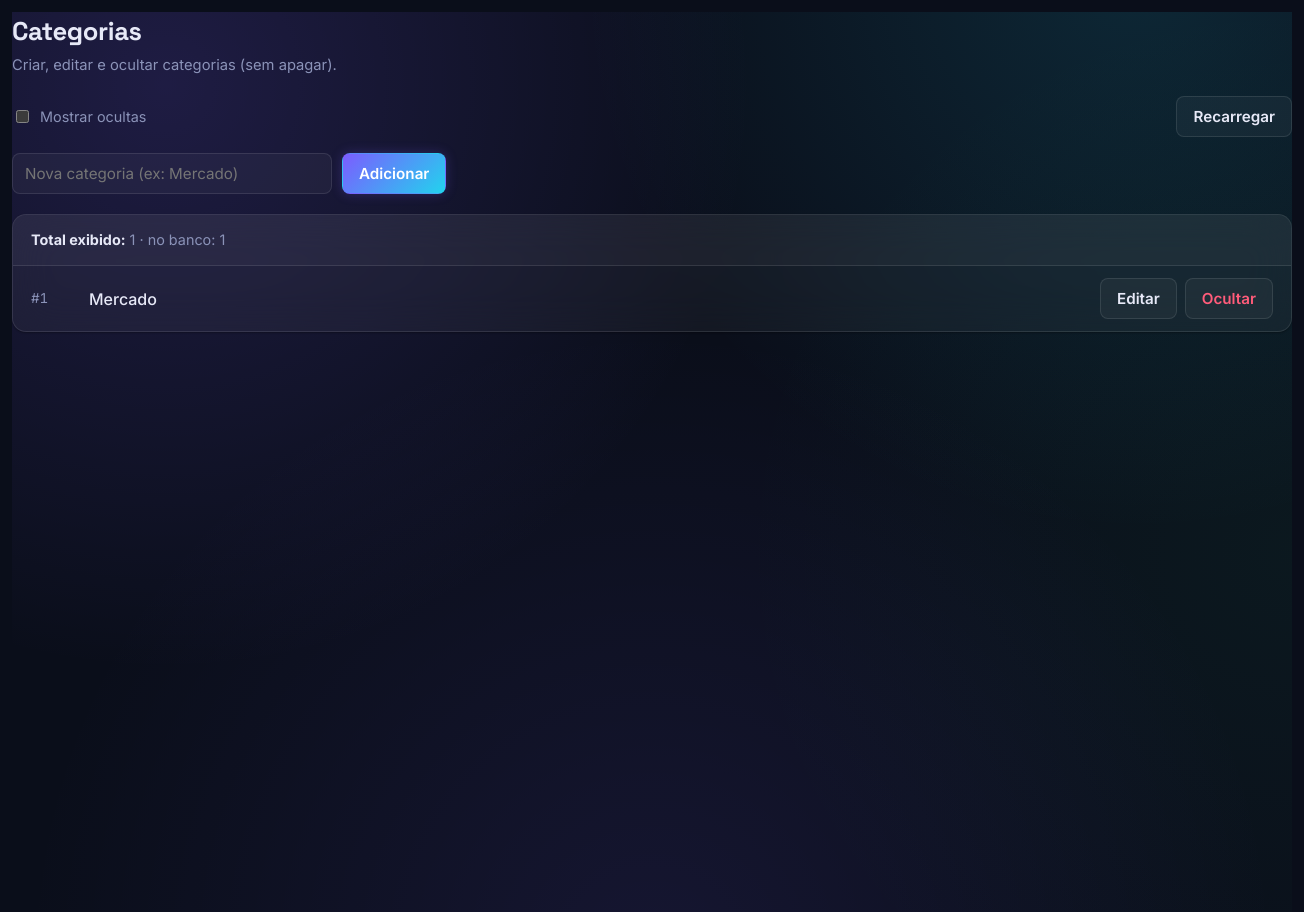
Categories › edita o nome de uma categoria
Expected: the text "Mercado" is shown, [89,289,157,309]
Click the button "Editar": (1138, 299) [1100,278,1177,319]
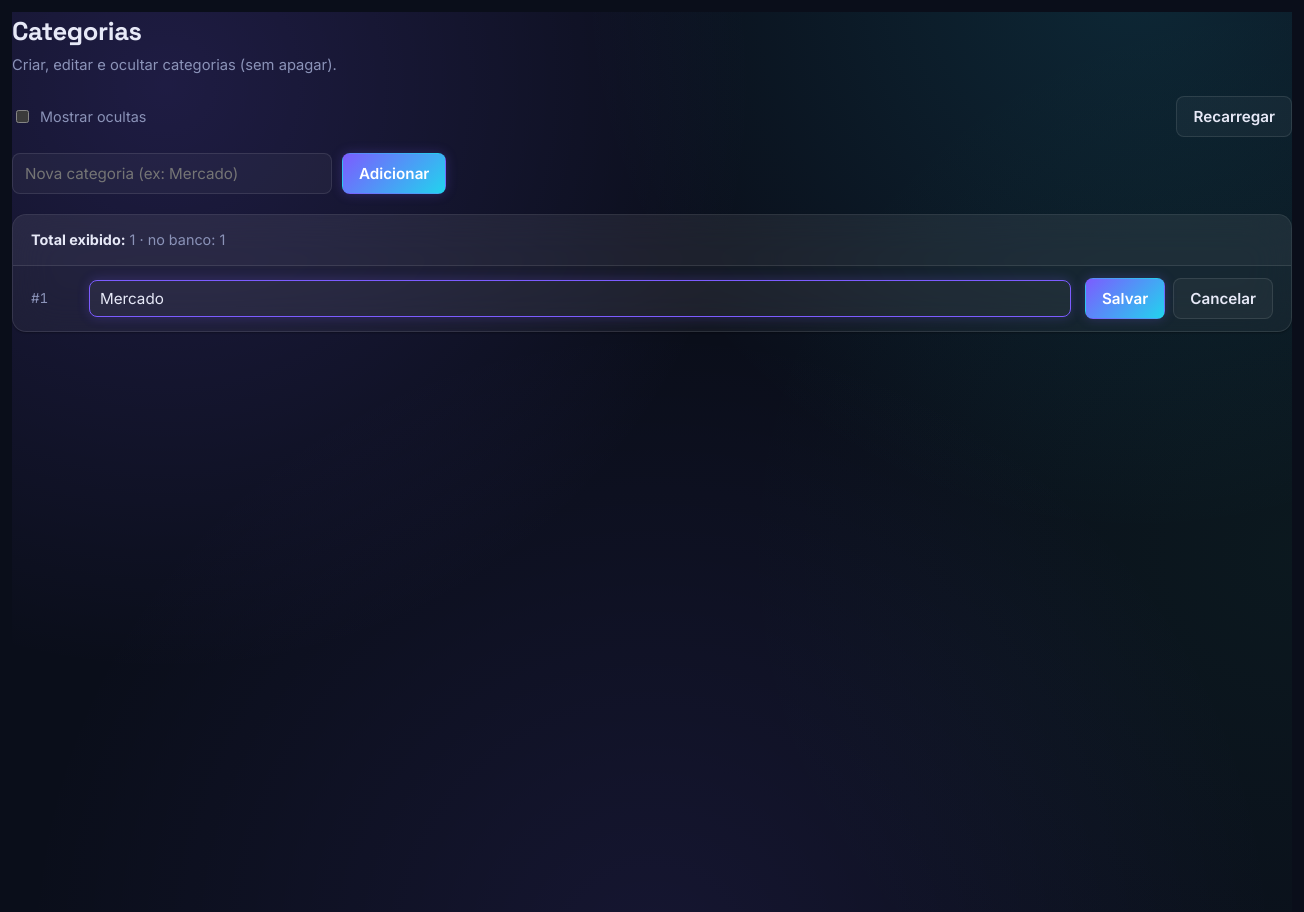
Replace the text in the field showing "Mercado" with "Mercado e Feira": (580, 299) [89,280,1071,317]
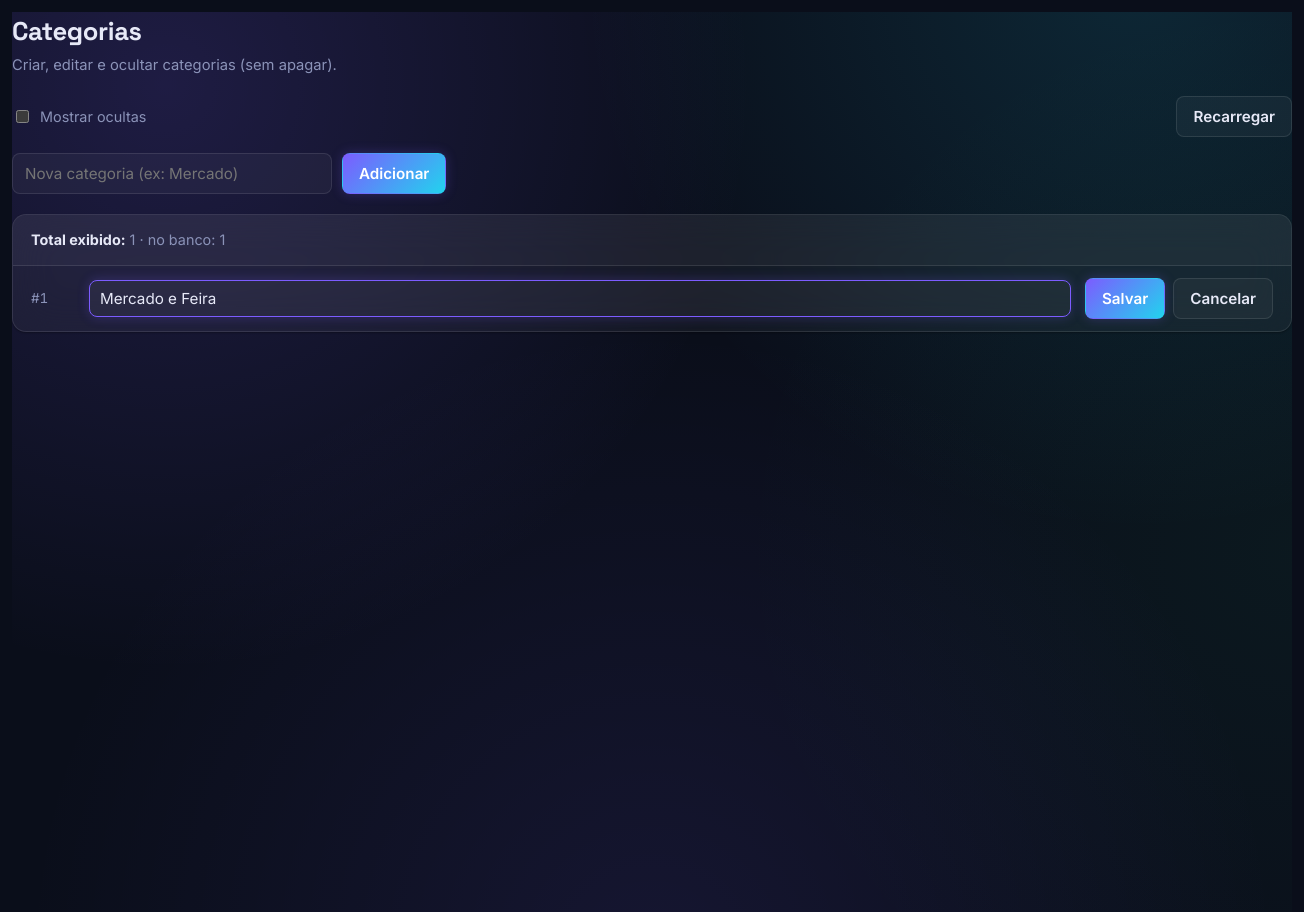
Click the button "Salvar": (1125, 299) [1085,278,1165,319]
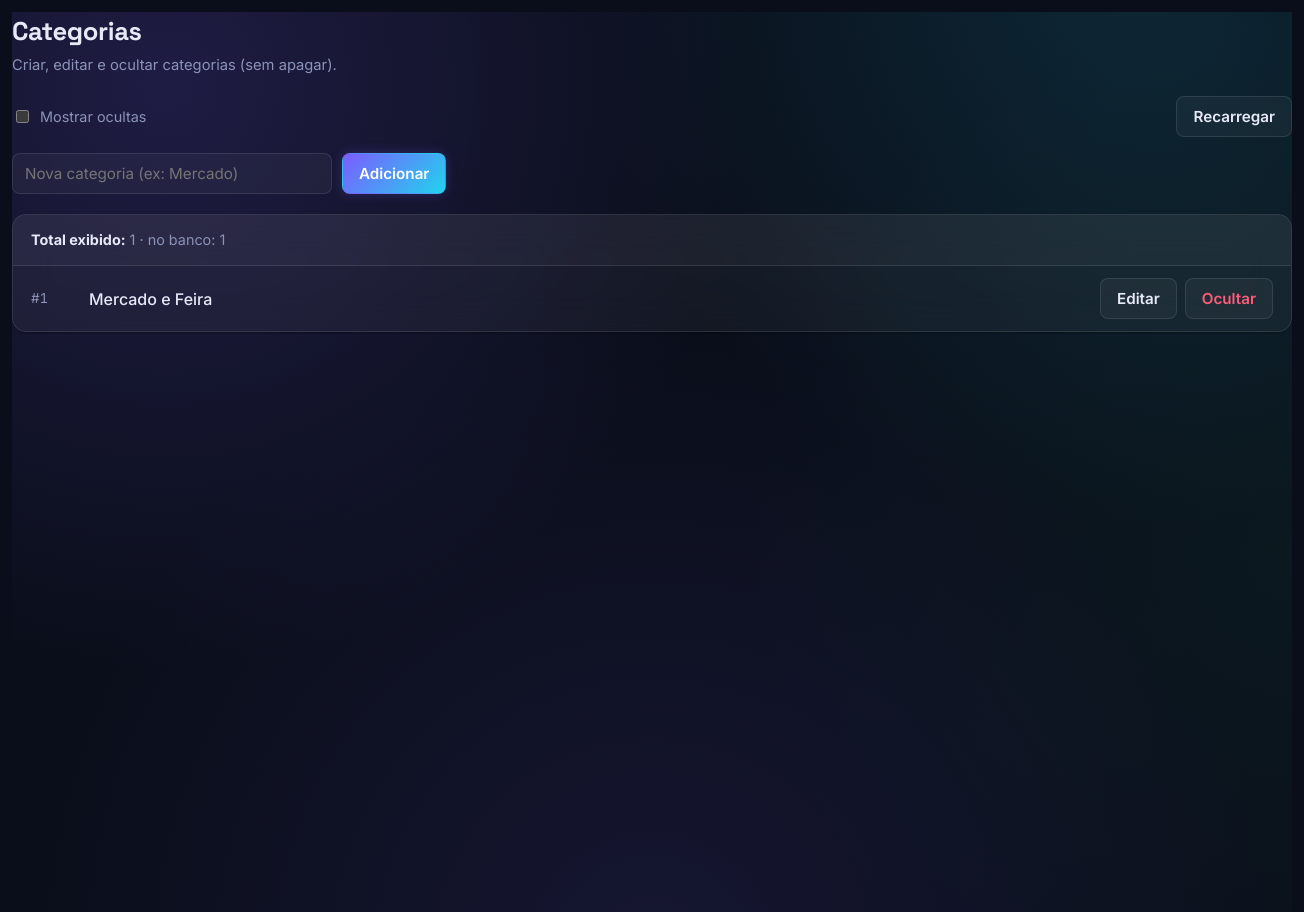
Expected: the text "Mercado e Feira" is shown, [89,289,212,309]
